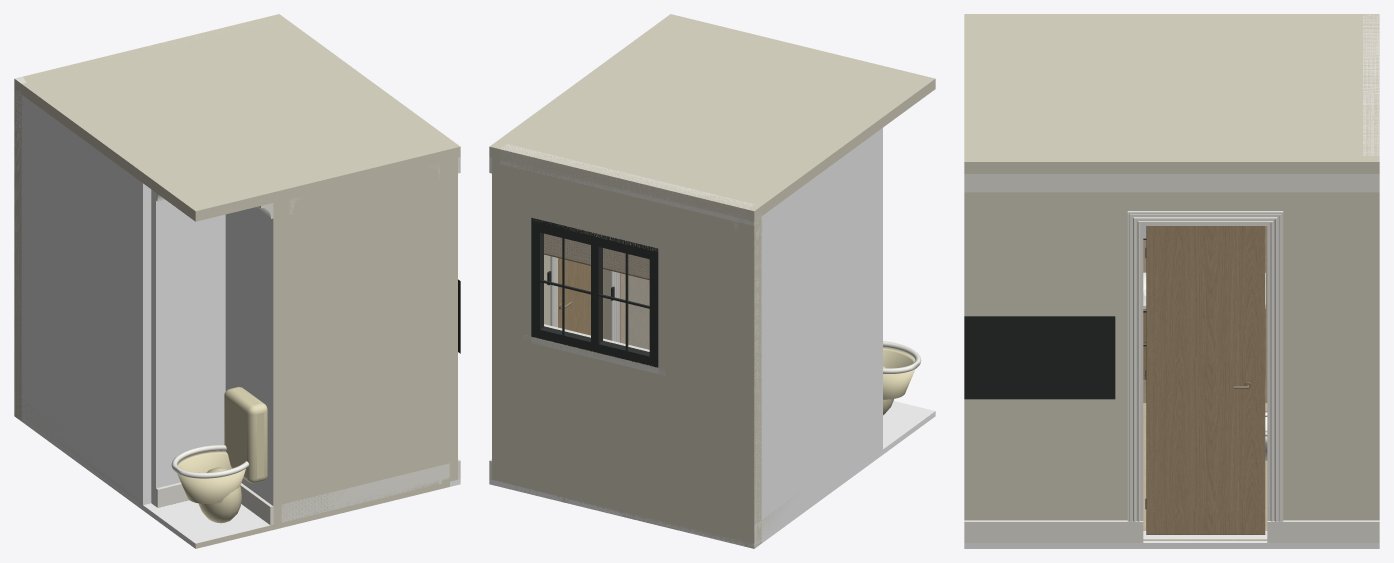
3 renders of one model, left to right at view 1: azimuth 30°, elevation 25°; view 2: azimuth 150°, elevation 25°; view 3: azimuth 270°, elevation 25°, orthographic. The views are drawn at different scales.
Parts seen in each view (by area): view 1: Principal en suite south | end.001, Bathroom en suite | end.001, Principal en suite | ceiling.001, Bathroom jog | end.001, Bathroom east | end.001, Bathroom | ceiling.001, Bathroom | floor.001, Family bathroom toilet cistern.001, Principal en suite south | skirting end-1.001, Landing continuous ceiling.001, Principal en suite east | end.001, Bathroom balcony | end.001 (+8 smaller); view 2: Principal en suite | ceiling.001, Bathroom en suite | end.001, En suite balcony | pier 0.001, Proposal revision | En suite balcony | below 0.001, En suite balcony | end.001, Bathroom | ceiling.001, Proposal revision | En suite balcony | lintel 0.001, Bathroom balcony | end.001, Principal en suite east | pier 0.001, Roof join | En suite balcony masonry head.001, Bathroom | floor.001, Guest 01 | ensuite door leaf.001 (+16 smaller); view 3: Principal en suite | ceiling.001, Principal en suite east | end.001, Guest 01 | ensuite door leaf.001, Principal en suite east | pier 0.001, Trim comparison | Principal en suite east opening 1 side 1 m, Guest 01 | fixed TV chassis.001, Circulation detail | Cove Principal en suite east 1.001, Principal bedroom | ceiling.001, Bathroom | ceiling.001, Principal en suite east | skirting end1.001, Principal bedroom | floor.001, Principal en suite east | skirting pier 01.001 (+6 smaller).
Boxes of the visible parts, x1=… form: Principal en suite south | end.001: x1=281, y1=160, x2=449, y2=520; Bathroom en suite | end.001: x1=14, y1=91, x2=151, y2=505; Principal en suite | ceiling.001: x1=23, y1=16, x2=444, y2=186; Bathroom jog | end.001: x1=151, y1=189, x2=225, y2=506; Bathroom east | end.001: x1=225, y1=199, x2=289, y2=524; Bathroom | ceiling.001: x1=14, y1=77, x2=281, y2=221; Bathroom | floor.001: x1=14, y1=411, x2=281, y2=548; Family bathroom toilet cistern.001: x1=224, y1=387, x2=267, y2=483; Principal en suite south | skirting end-1.001: x1=281, y1=463, x2=449, y2=522; Landing continuous ceiling.001: x1=277, y1=146, x2=449, y2=200; Principal en suite east | end.001: x1=449, y1=158, x2=457, y2=481; Bathroom balcony | end.001: x1=14, y1=89, x2=21, y2=415; Principal en suite | ceiling.001: x1=500, y1=20, x2=874, y2=219; Bathroom en suite | end.001: x1=738, y1=128, x2=882, y2=542; En suite balcony | pier 0.001: x1=658, y1=199, x2=746, y2=541; Proposal revision | En suite balcony | below 0.001: x1=531, y1=337, x2=658, y2=519; En suite balcony | end.001: x1=500, y1=160, x2=531, y2=488; Bathroom | ceiling.001: x1=746, y1=57, x2=935, y2=221; Proposal revision | En suite balcony | lintel 0.001: x1=531, y1=167, x2=658, y2=250; Bathroom balcony | end.001: x1=746, y1=216, x2=761, y2=543; Principal en suite east | pier 0.001: x1=492, y1=158, x2=550, y2=481; Roof join | En suite balcony masonry head.001: x1=500, y1=144, x2=752, y2=219; Bathroom | floor.001: x1=747, y1=401, x2=935, y2=548; Guest 01 | ensuite door leaf.001: x1=558, y1=258, x2=604, y2=338; Principal en suite | ceiling.001: x1=975, y1=18, x2=1379, y2=155; Principal en suite east | end.001: x1=964, y1=192, x2=1143, y2=520; Guest 01 | ensuite door leaf.001: x1=1146, y1=226, x2=1265, y2=534; Principal en suite east | pier 0.001: x1=1267, y1=192, x2=1379, y2=520; Trim comparison | Principal en suite east opening 1 side 1 m: x1=1127, y1=211, x2=1283, y2=542; Guest 01 | fixed TV chassis.001: x1=964, y1=316, x2=1115, y2=399; Circulation detail | Cove Principal en suite east 1.001: x1=964, y1=174, x2=1379, y2=192; Principal bedroom | ceiling.001: x1=964, y1=156, x2=1379, y2=173; Bathroom | ceiling.001: x1=964, y1=14, x2=1379, y2=61; Principal en suite east | skirting end1.001: x1=964, y1=520, x2=1143, y2=542; Principal bedroom | floor.001: x1=964, y1=537, x2=1379, y2=548; Principal en suite east | skirting pier 01.001: x1=1267, y1=520, x2=1379, y2=542.
Bounding box in the file's own units: 2.11 × 2.57 × 2.5.
23 materials, 5 textured.
